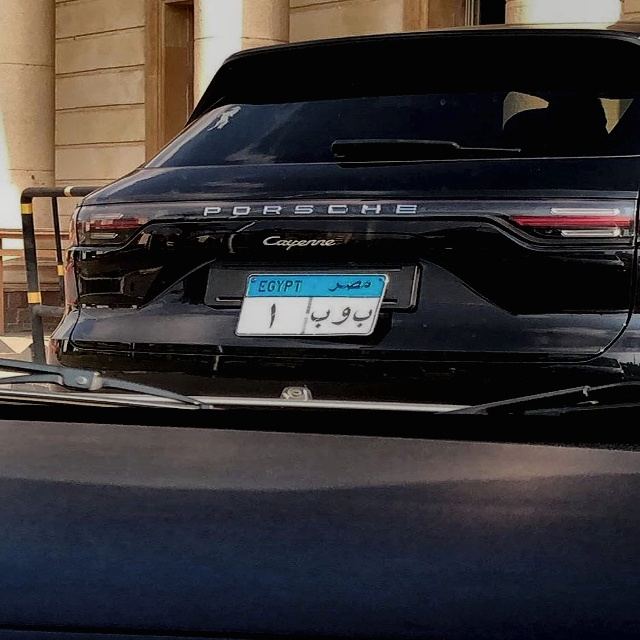License Plate: (231, 266, 391, 340)
